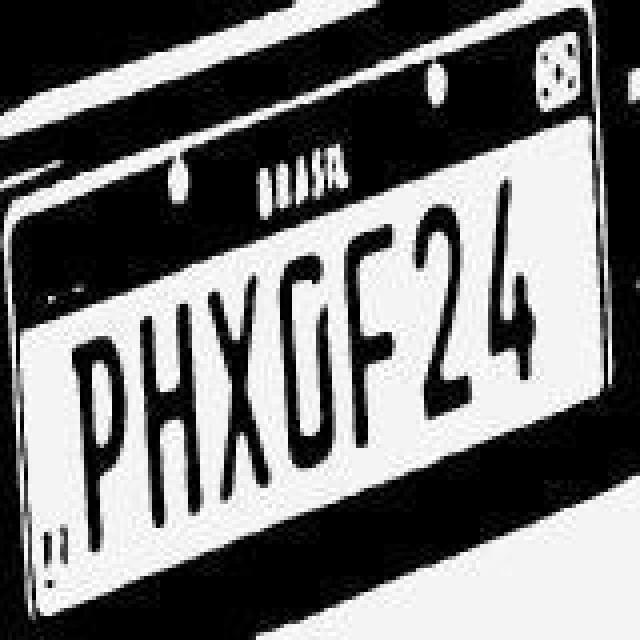2: (406, 208, 474, 408)
4: (482, 180, 542, 380)
D: (268, 252, 340, 468)
F: (330, 234, 406, 430)
H: (130, 312, 198, 520)
P: (64, 336, 128, 560)
X: (200, 288, 264, 480)
